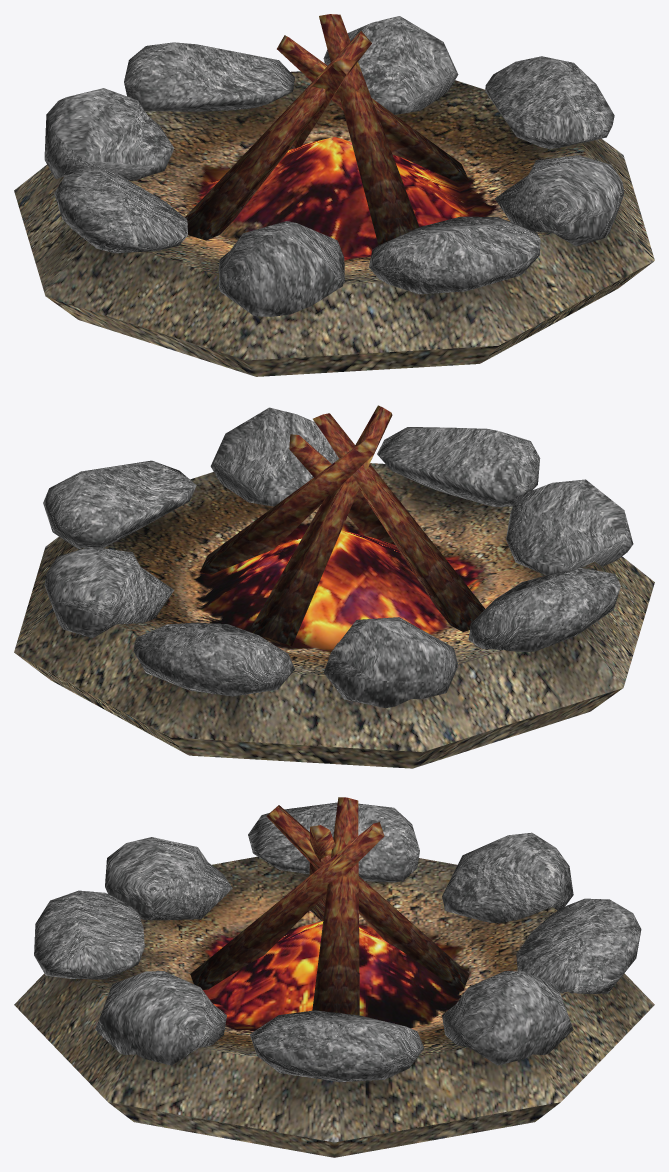
Rendered from campfire.dae.
3 renders of one model, top to bottom at view 1: azimuth 30°, elevation 25°; view 2: azimuth 150°, elevation 25°; view 3: azimuth 270°, elevation 25°, orthographic. The views are drawn at different scales.
Parts seen in each view (by area): view 1: campfire1, campfireglowsticks; view 2: campfire1, campfireglowsticks; view 3: campfire1, campfireglowsticks.
Part boxes in pixels (box(x1,y1,x2,y2)): campfire1: box(14, 16, 654, 376); campfireglowsticks: box(184, 14, 468, 256); campfire1: box(14, 407, 654, 768); campfireglowsticks: box(200, 405, 484, 648); campfire1: box(14, 802, 654, 1157); campfireglowsticks: box(190, 797, 469, 1026).
Size of the model in its own units: 1.85 by 0.9012 by 1.82.
2 materials, 2 textured.
